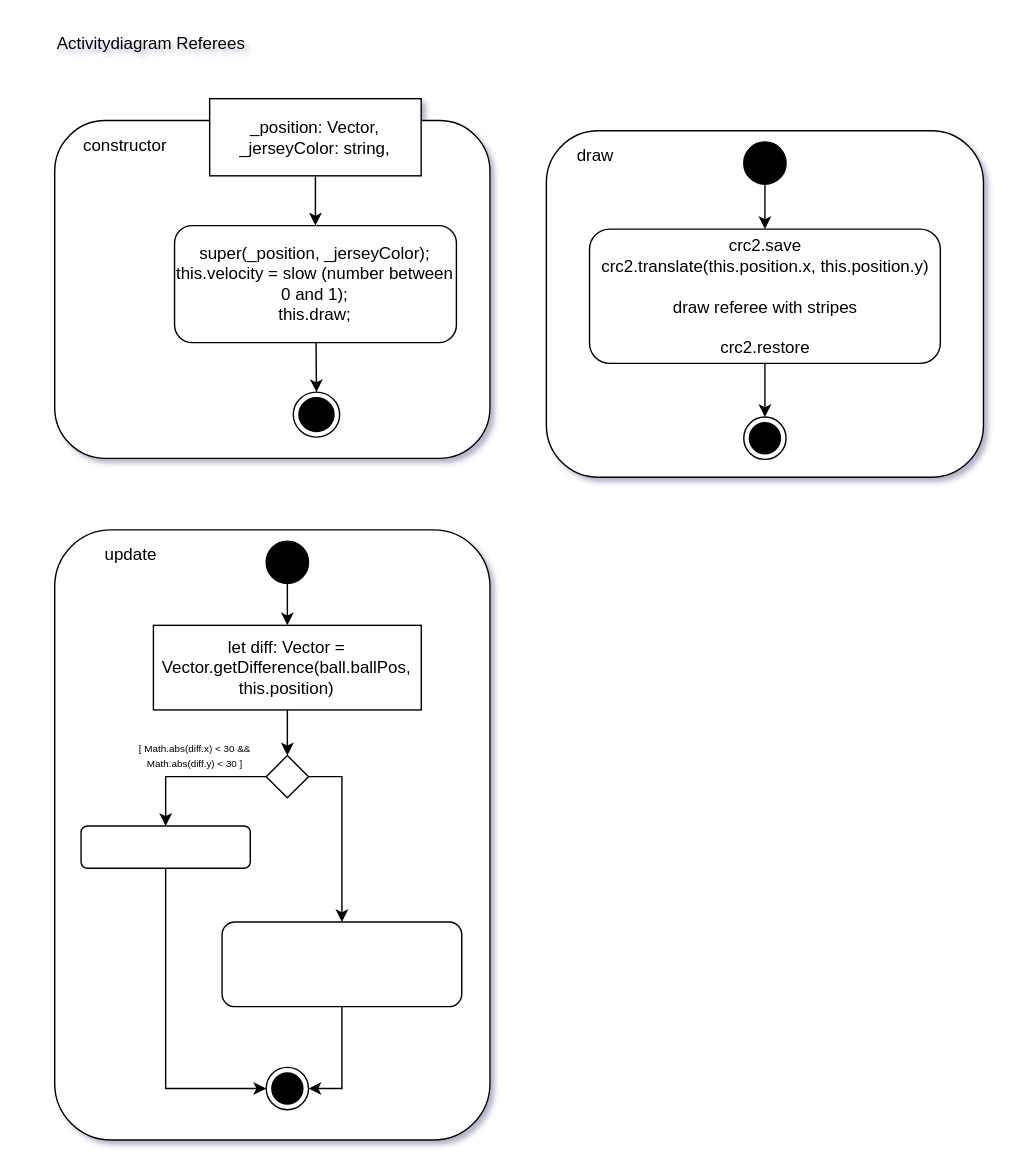
The diagram is 1017 pixels wide and 1173 high, and some of its shapes have lost their labels. Here are the shapes that lost their labels. From the top down, the centre of each, then its label:
At point 165,846: "Referee stops".
At point 341,964: "diff.scale(0.005); this.position.add(diff);".
